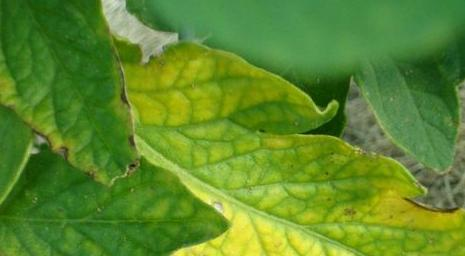Tomato mold leaf: (112, 38, 465, 256), (0, 0, 148, 191), (0, 152, 228, 256)
